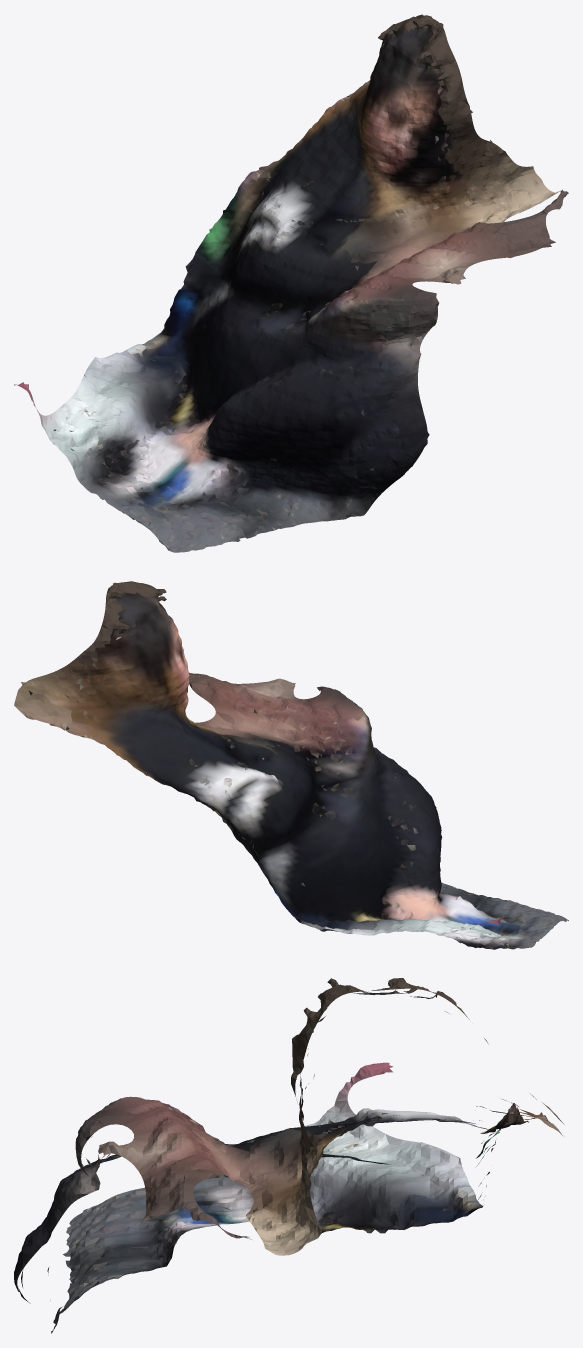
3 renders of one model, top to bottom at view 1: azimuth 30°, elevation 25°; view 2: azimuth 150°, elevation 25°; view 3: azimuth 270°, elevation 25°, orthographic. The views are drawn at different scales.
Size of the model in its own units: 0.9802 by 0.6665 by 0.7026.
Materials: 1 (1 with a texture image).
